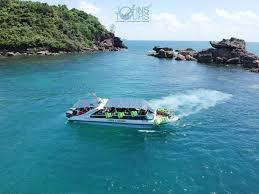Ship: (59, 92, 178, 132)
